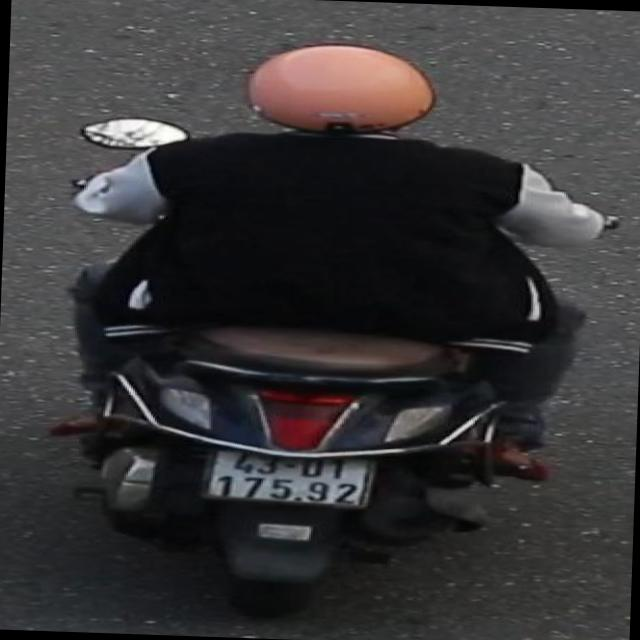LP: (196, 442, 383, 514)
helmet: (239, 36, 446, 152)
